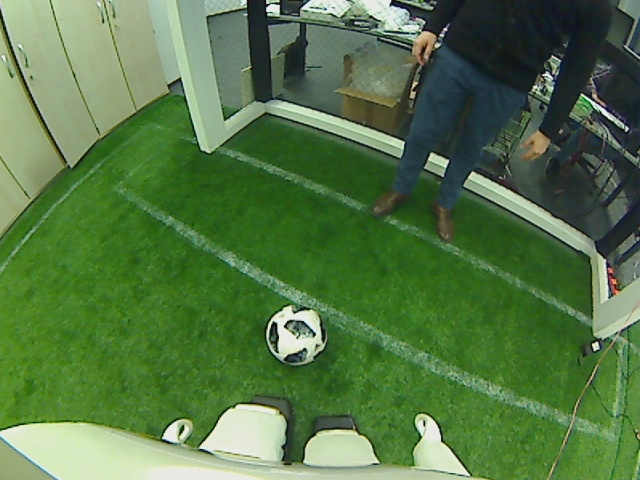ball: (264, 304, 327, 366)
